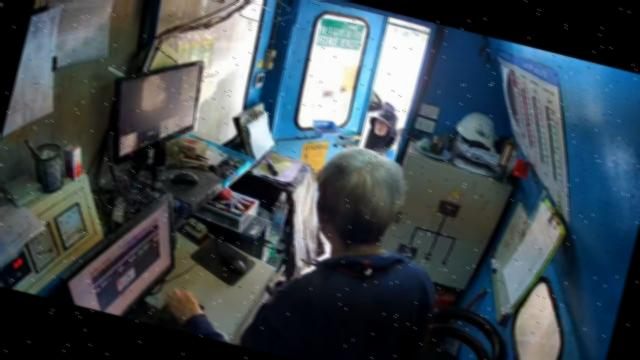Head: (315, 148, 407, 250)
People: (242, 152, 437, 359)
